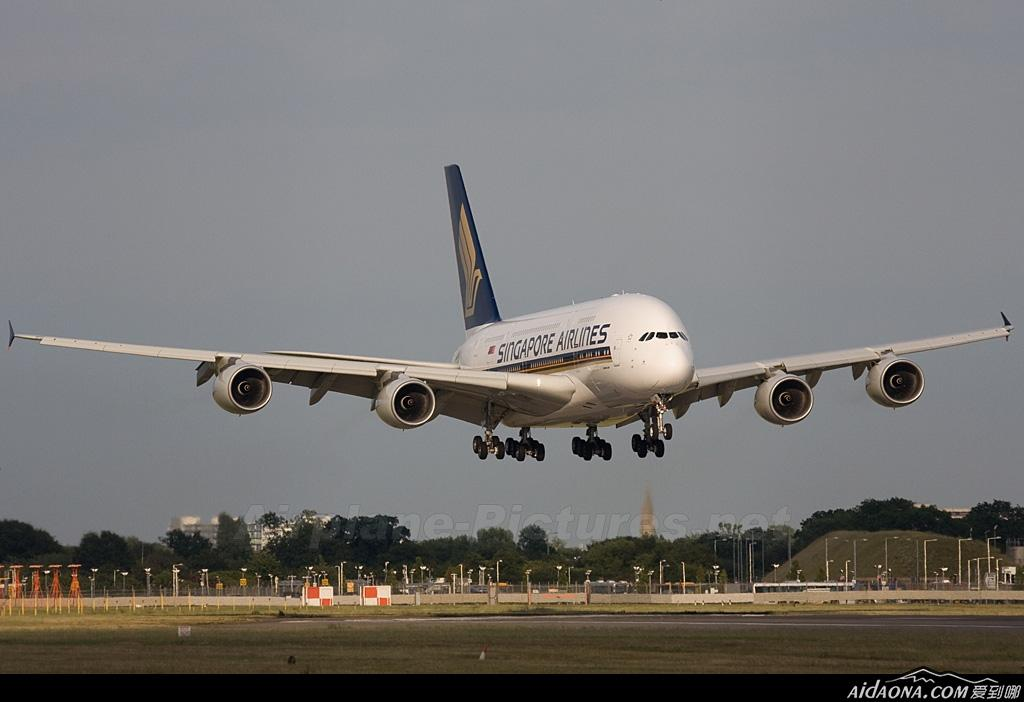airplane: (5, 160, 1015, 471)
